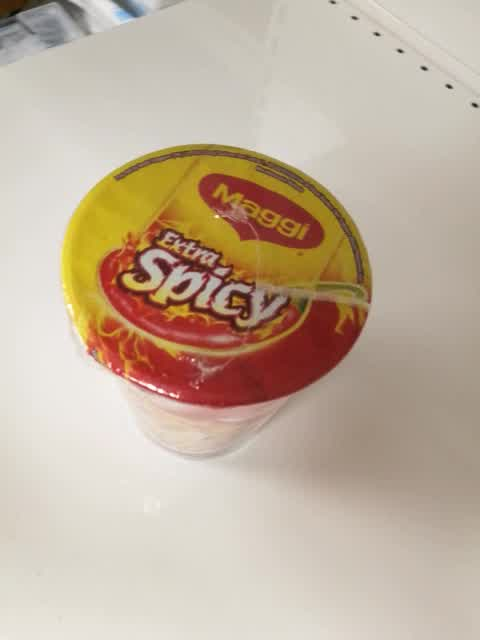maggi: (61, 144, 374, 462)
